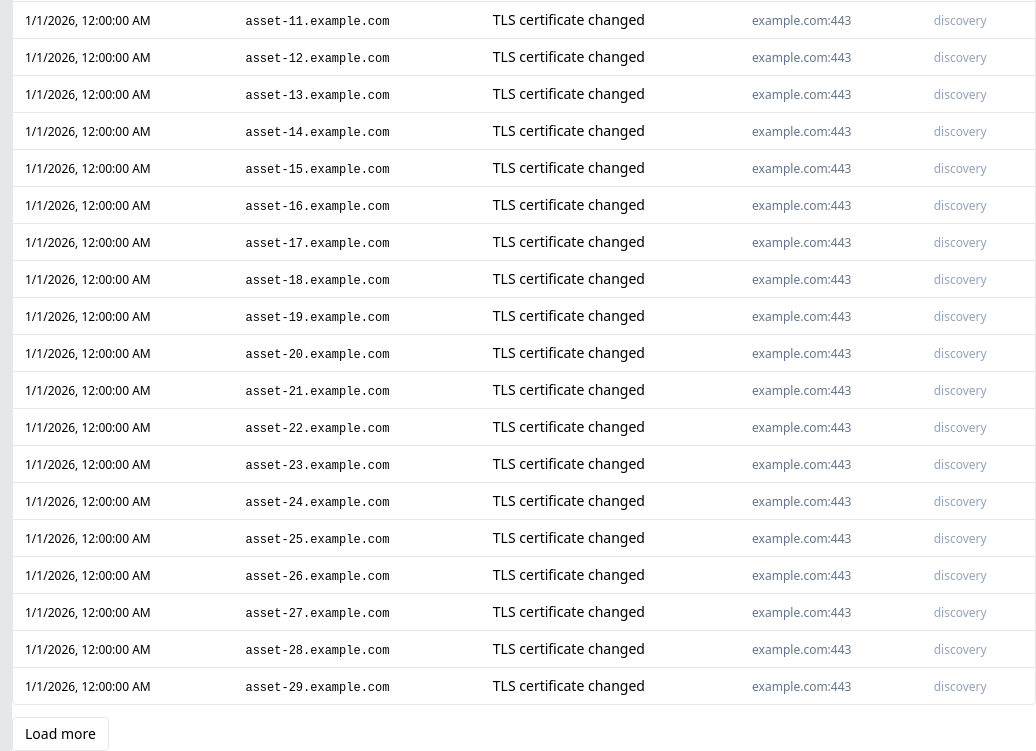
Scenario: ChangeTimelinePage › shows a 'Load more' button only on a full page, and pages forward via keyset params
The image size is (1036, 751).
(page scrolled)
Click the button "Load more" at (60, 734), box [12,717,109,750]
(page scrolled)
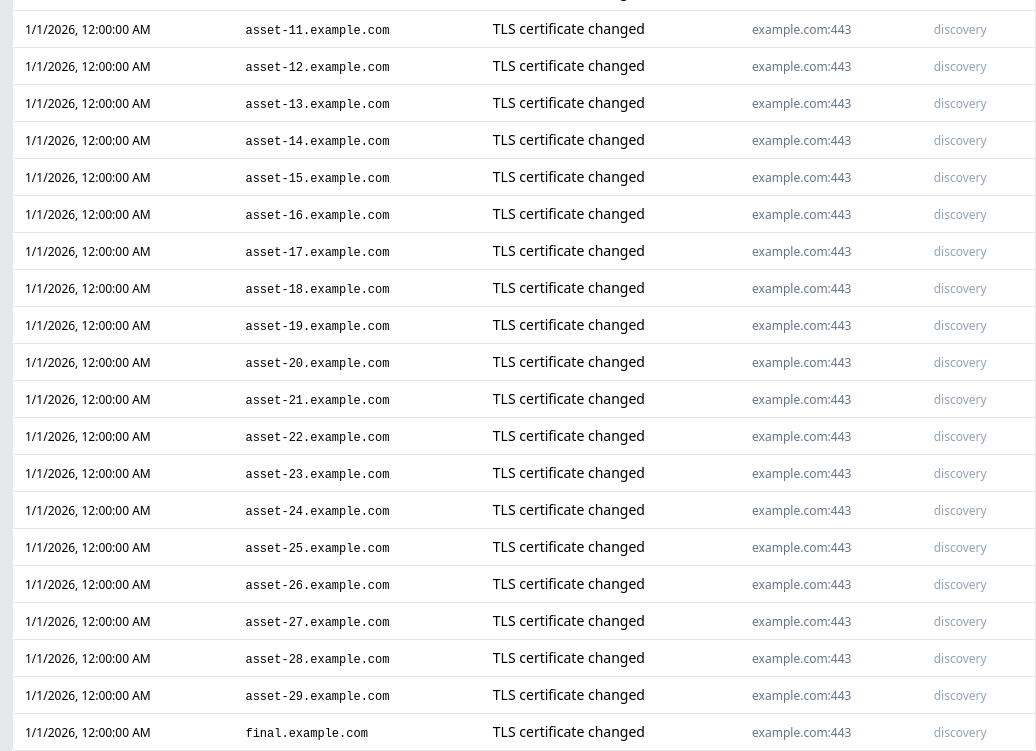
expect the link "final.example.com" is shown: met, box [246,727,368,741]
expect the button "Load more" is gone: met
